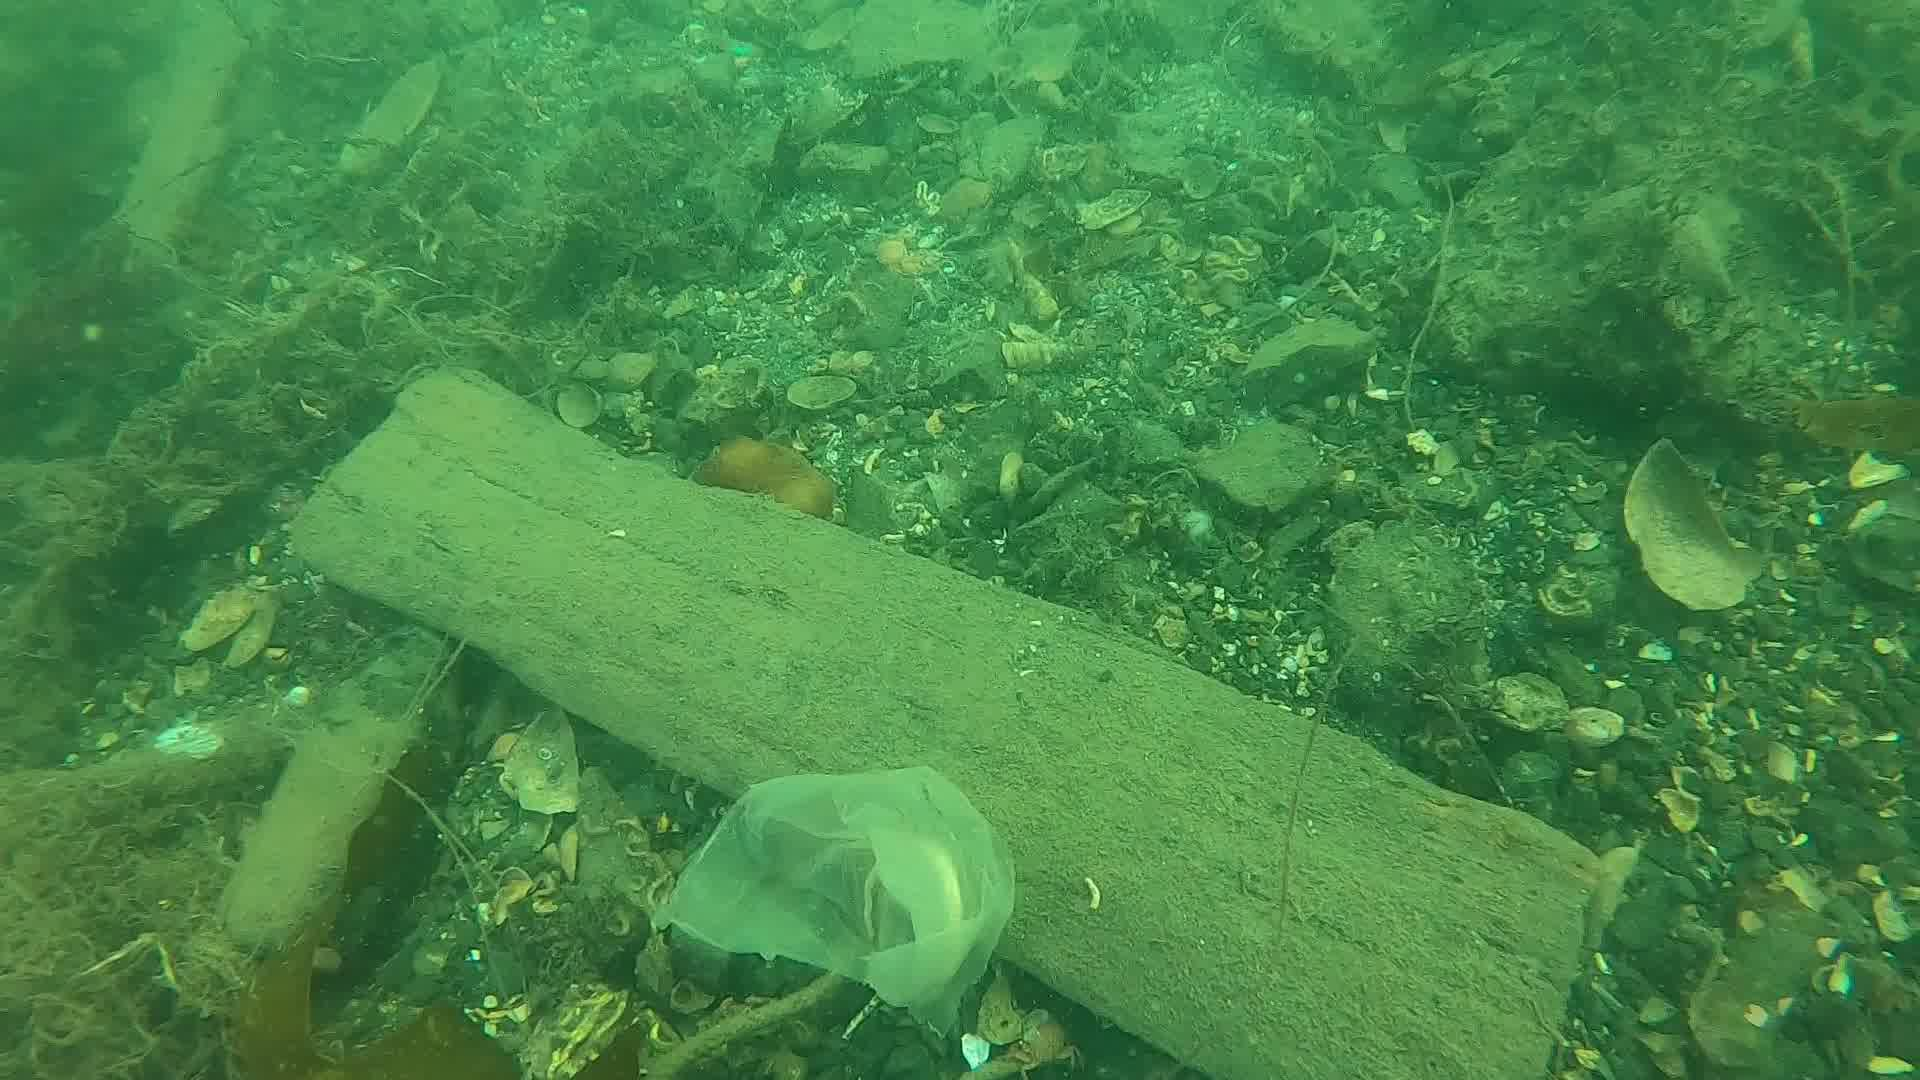wood: (285, 363, 1600, 1080)
